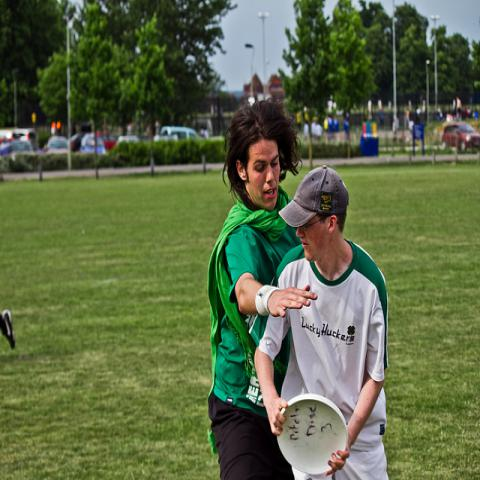car: (441, 120, 479, 152), (9, 130, 38, 153), (110, 135, 144, 152), (158, 126, 202, 139), (79, 133, 106, 154), (97, 130, 120, 150), (8, 143, 32, 162), (45, 136, 67, 153), (71, 137, 84, 152)
